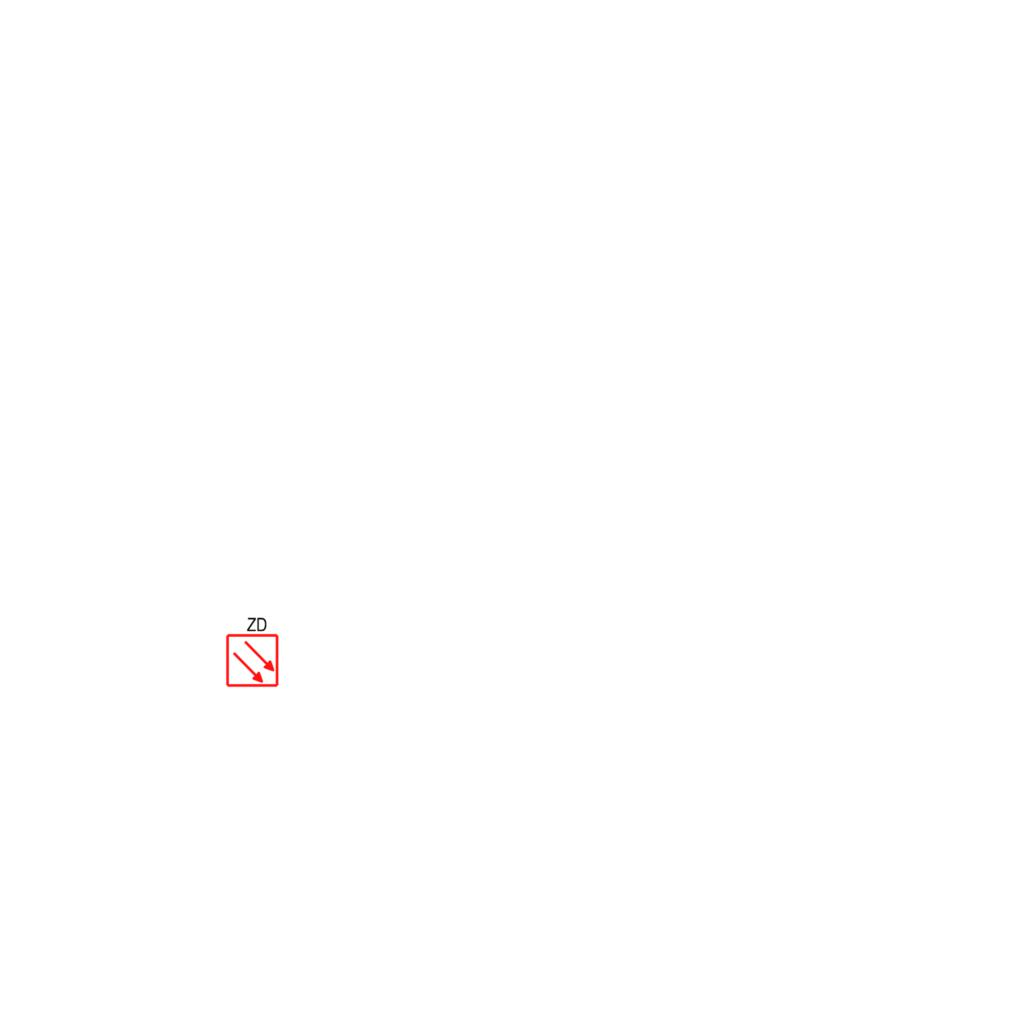ZD_Melder_in_Zwischendecke_mit_Revisionsoeffnung_mind_40_x_40_cm: (223, 614, 280, 688)
